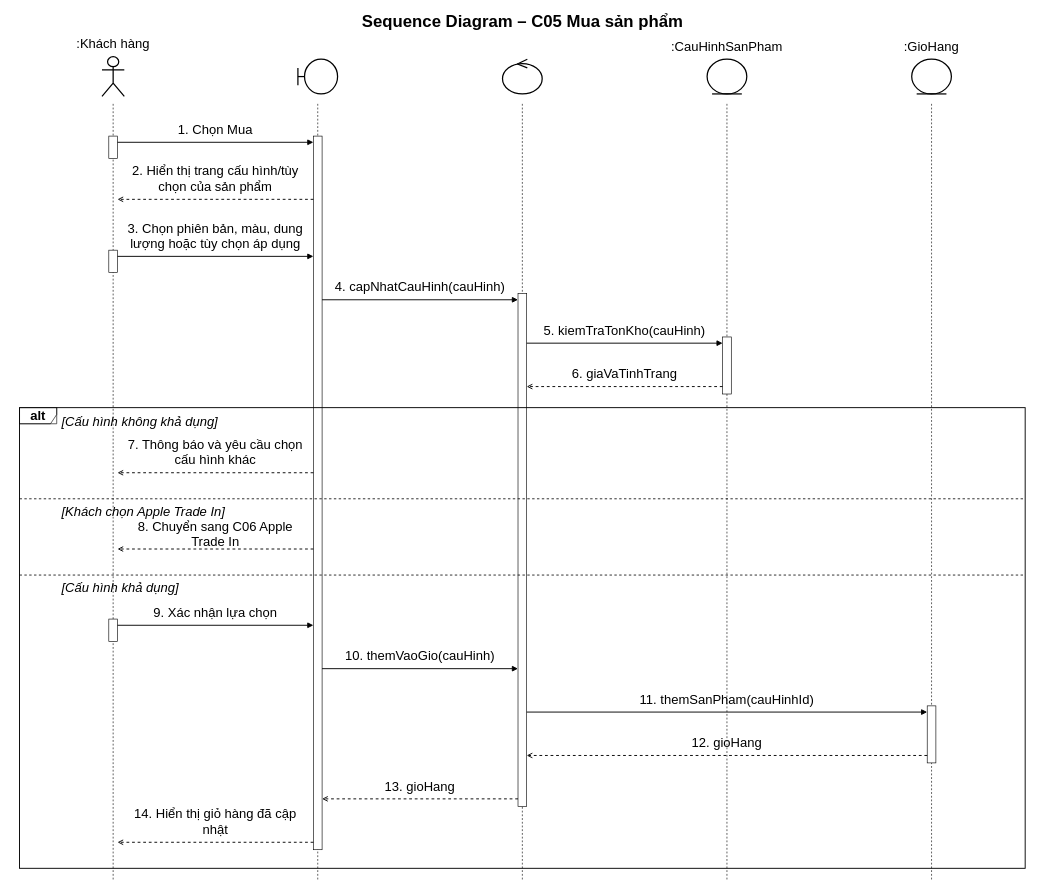
The diagram is 1044 pixels wide and 892 high, and some of its shapes have lost their labels. Here are the shapes that lost their labels. From the top down, the centre of each, then its label:
pixel 317 76: :MuaSanPhamPage
pixel 522 76: :MuaSanPhamController
